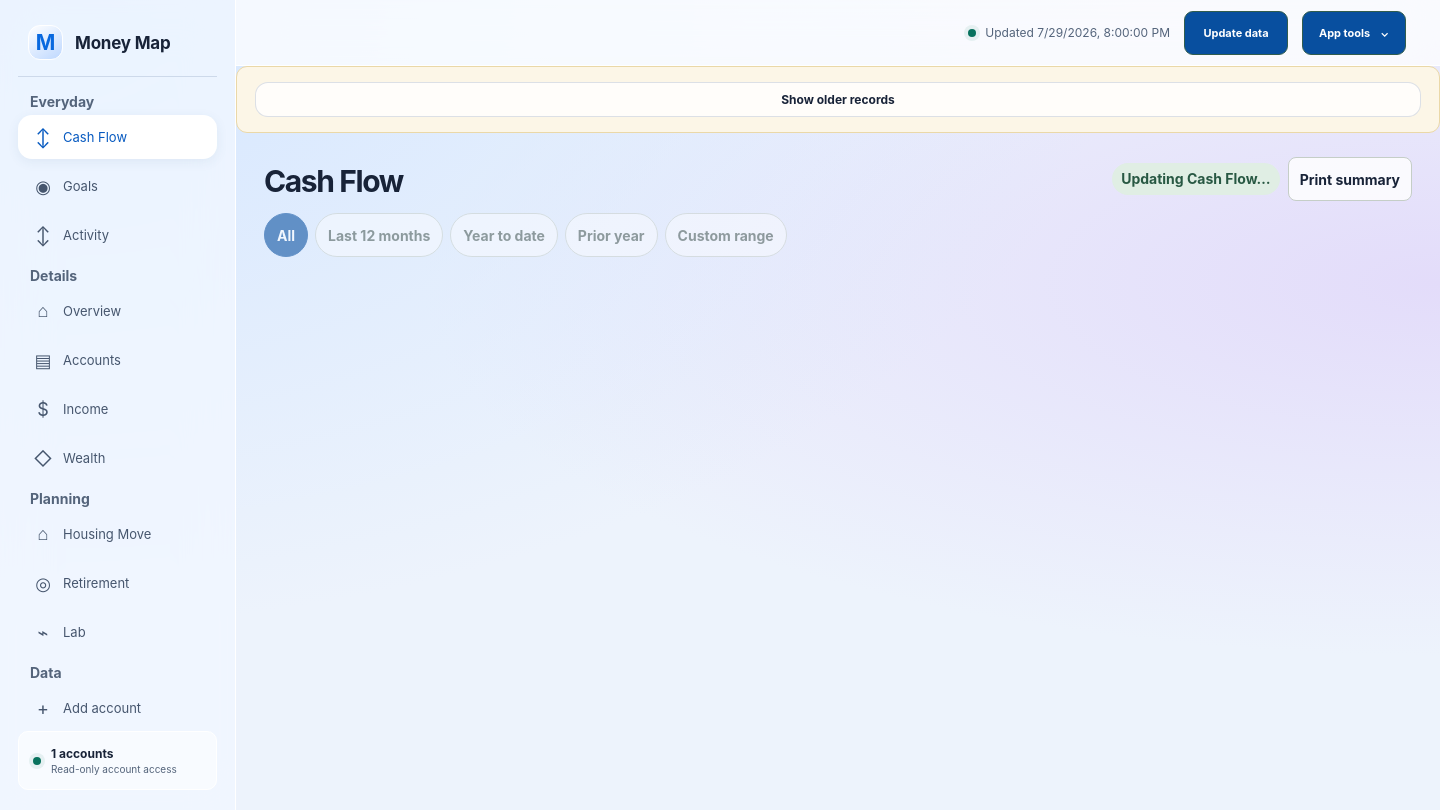
application states › keeps large activity history progressive until older evidence is requested
Click the button "Show older records".
click(838, 100)  # box [255, 82, 1421, 117]
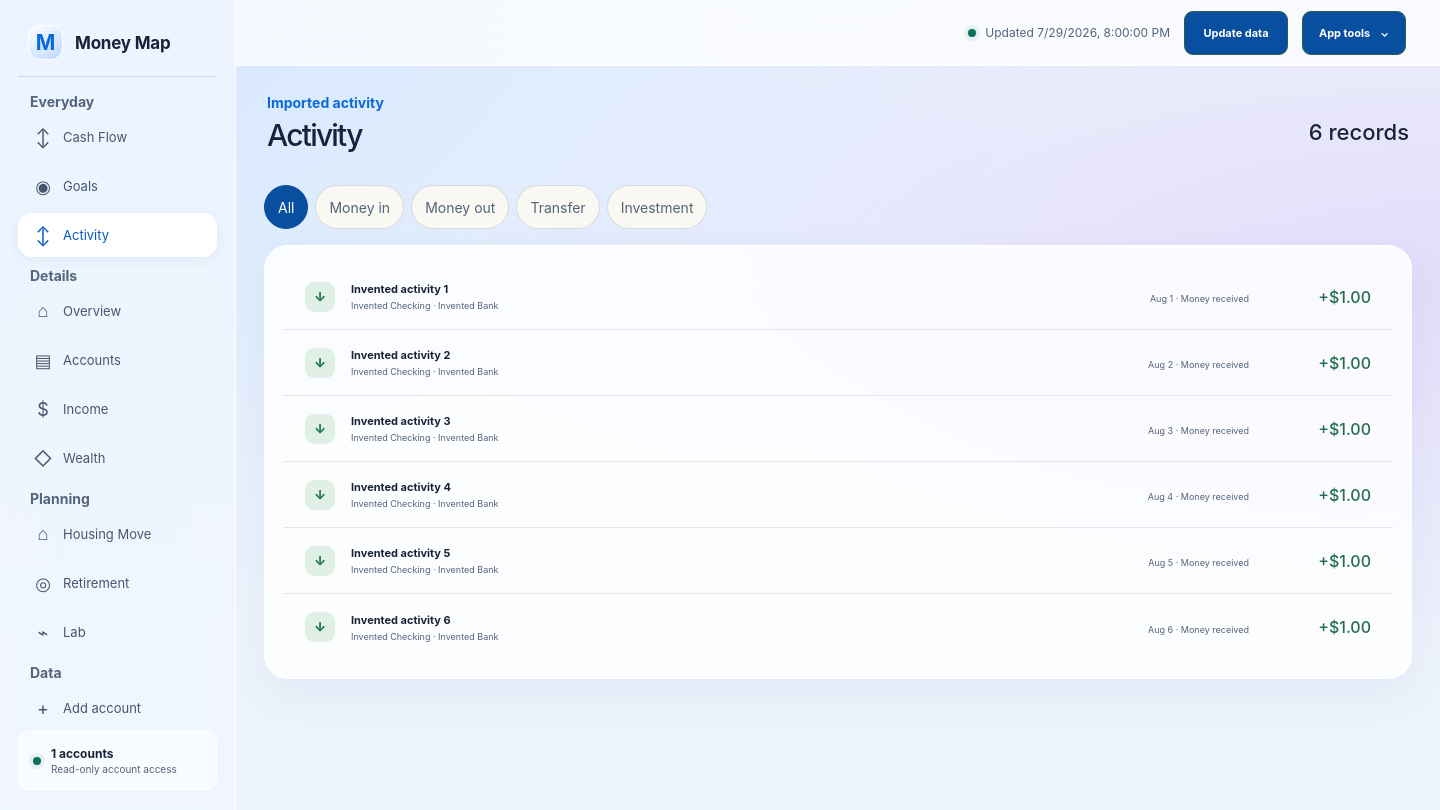
Result: the heading "Activity" is shown at [267, 117, 362, 153]
Result: the text "Invented activity 6" is shown at [351, 612, 451, 626]
